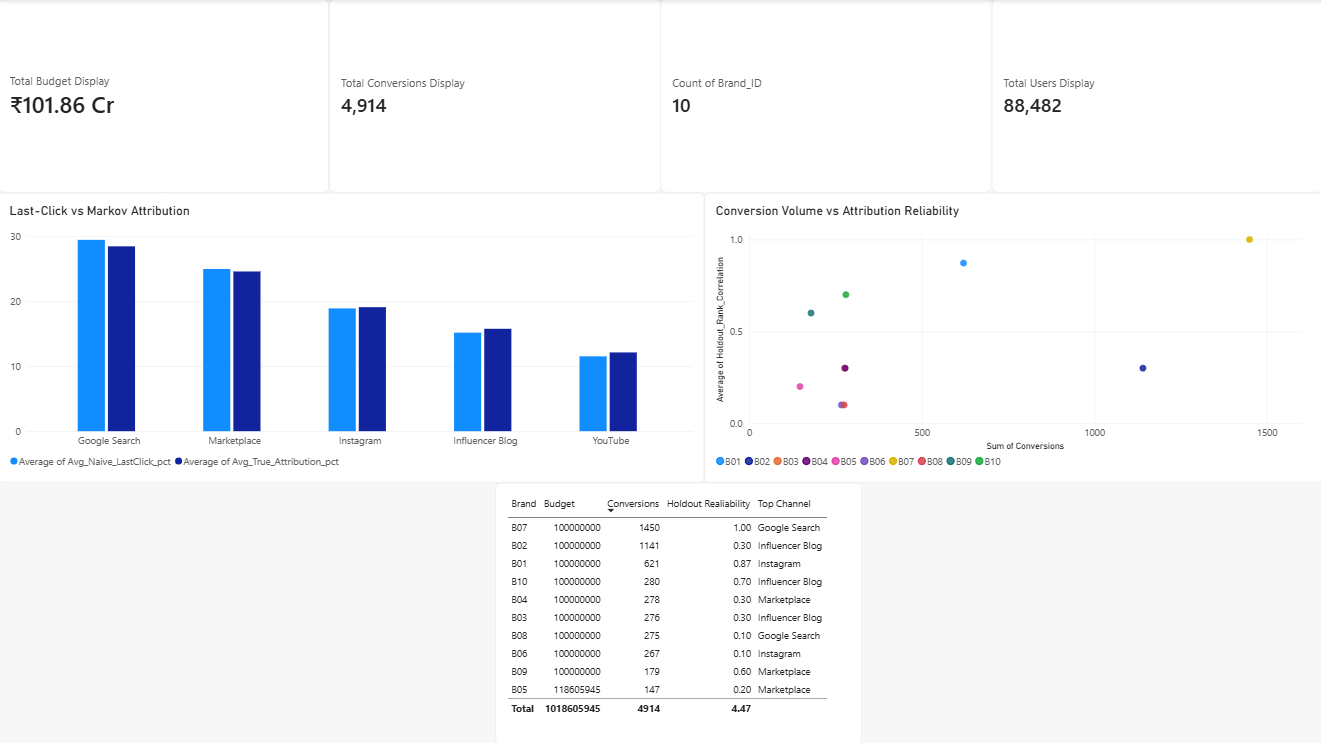

What the dashboard file says about the page in this screenshot:
{"tool":"powerbi","page":{"name":"Portfolio Overview","canvas":[1920,1080],"ordinal":0},"visuals":[{"type":"cardVisual","fields":{"Data":["portfolio_summary_by_brand.Total Budget Display"]},"box":[0,0,479,280],"z":0},{"type":"cardVisual","fields":{"Data":["portfolio_summary_by_brand.Total Conversions Display"]},"box":[479,0,480.7,280],"z":1000},{"type":"cardVisual","fields":{"Data":["Count(portfolio_summary_by_brand.Brand_ID)"]},"box":[960,0,479.3,280],"z":2000},{"type":"cardVisual","fields":{"Data":["portfolio_summary_by_brand.Total Users Display"]},"box":[1439.3,0,480.7,280],"z":3000},{"type":"clusteredColumnChart","title":"Last-Click vs Markov Attribution","fields":{"Category":["portfolio_channel_view.Channel"],"Y":["Avg(portfolio_channel_view.Avg_Naive_LastClick_pct)","Avg(portfolio_channel_view.Avg_True_Attribution_pct)"]},"box":[0,280,1022.5,420],"z":4000},{"type":"scatterChart","title":"Conversion Volume vs Attribution Reliability","fields":{"Series":["portfolio_summary_by_brand.Brand_ID"],"X":["Sum(portfolio_summary_by_brand.Conversions)"],"Y":["Avg(portfolio_summary_by_brand.Holdout_Rank_Correlation)"]},"box":[1022.5,280,897.5,420],"z":5000},{"type":"tableEx","fields":{"Values":["portfolio_summary_by_brand.Brand_ID","Sum(portfolio_summary_by_brand.Budget_INR)","Sum(portfolio_summary_by_brand.Conversions)","Sum(portfolio_summary_by_brand.Holdout_Rank_Correlation)","portfolio_summary_by_brand.Top_Channel_By_Allocation"]},"box":[0,700,1920,380],"z":6000}]}

Visuals, with their boxes in screenshot pixels (x1, y1, x2, y2), scaled from the page's 1920x1080 canvas onto the 1321x743 screenshot:
cardVisual - portfolio_summary_by_brand.Total Budget Display: [0, 0, 330, 193]
cardVisual - portfolio_summary_by_brand.Total Conversions Display: [330, 0, 660, 193]
cardVisual - Count(portfolio_summary_by_brand.Brand_ID): [660, 0, 990, 193]
cardVisual - portfolio_summary_by_brand.Total Users Display: [990, 0, 1320, 193]
"Last-Click vs Markov Attribution" clusteredColumnChart: [0, 193, 704, 482]
"Conversion Volume vs Attribution Reliability" scatterChart: [704, 193, 1320, 482]
tableEx - portfolio_summary_by_brand.Brand_ID x Sum(portfolio_summary_by_brand.Budget_INR): [0, 482, 1320, 742]
